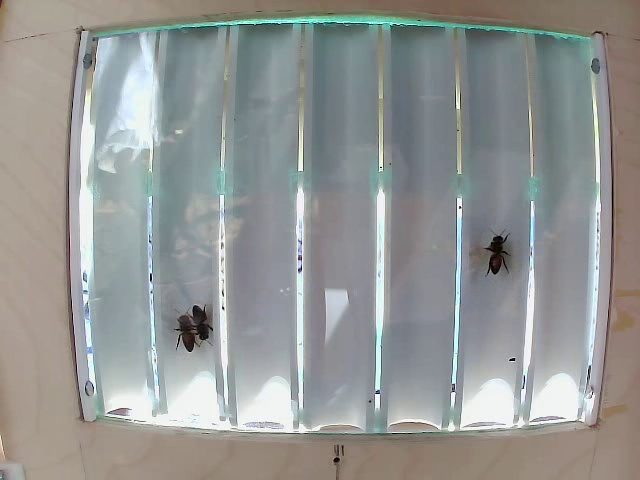bee: (477, 227, 517, 282), (166, 301, 200, 353), (191, 301, 215, 342)
